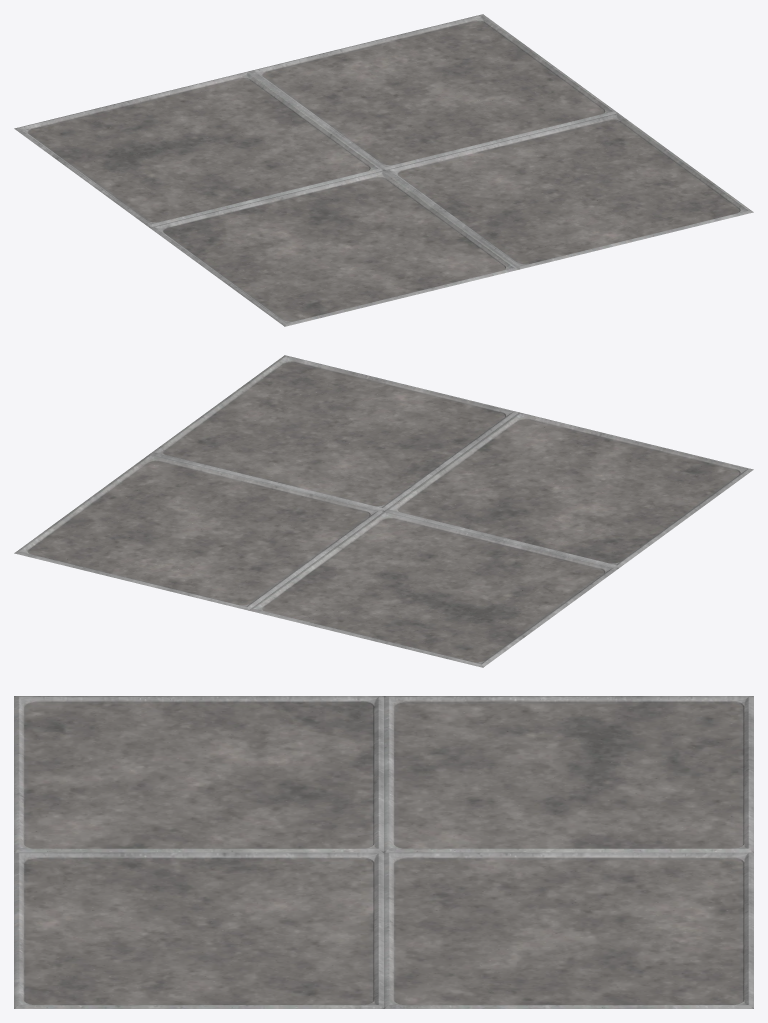
Rendered from metal_floor.f6682744.glb.
The picture shows the model from 3 angles, top to bottom: view 1: azimuth 30°, elevation 25°; view 2: azimuth 150°, elevation 25°; view 3: azimuth 270°, elevation 25°; orthographic projection. The views are drawn at different scales.
Visible parts, largest first — view 1: floor; view 2: floor; view 3: floor.
Boxes of the visible parts, left/top/right/bottom form: floor: left=14, top=14, right=753, bottom=326; floor: left=14, top=355, right=753, bottom=667; floor: left=14, top=696, right=753, bottom=1008.
Size of the model in its own units: 2 by 0.00916 by 2.
1 material, 1 textured.
